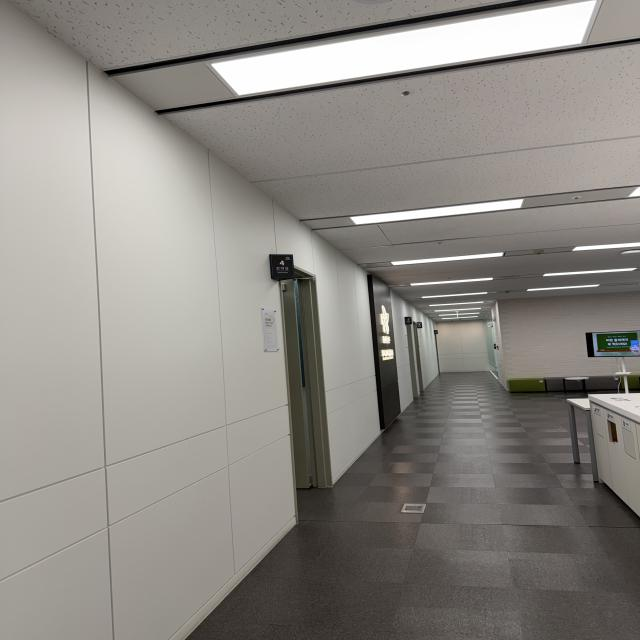room4: (272, 255, 294, 279)
